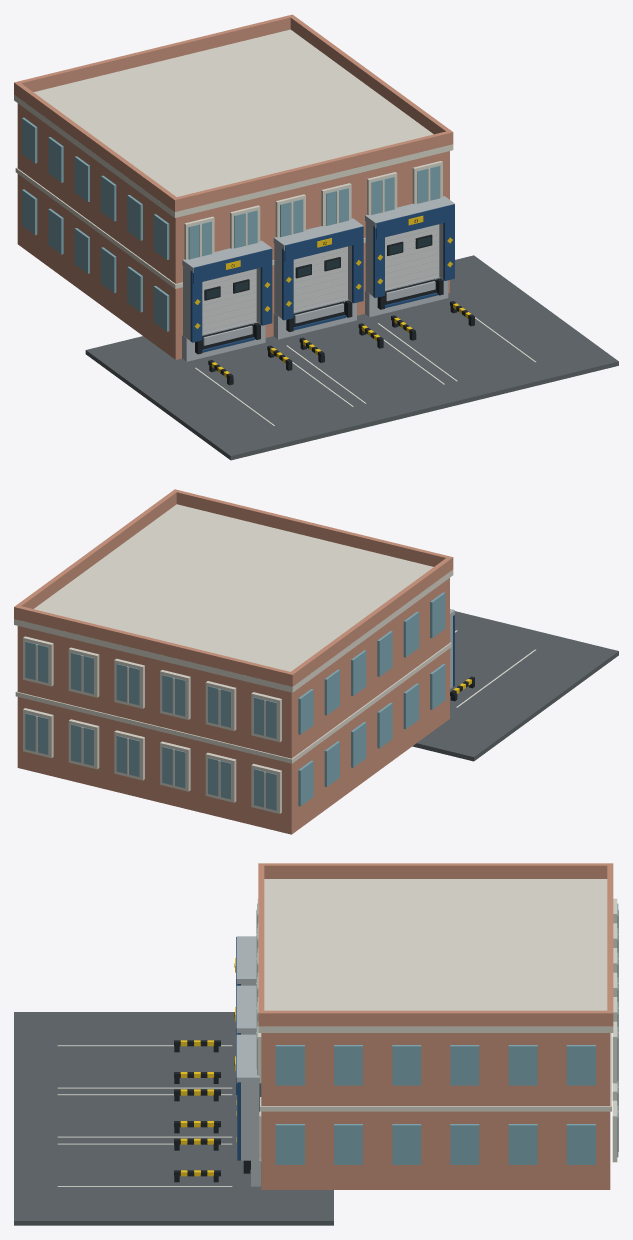
The model's file is warehouse-new.glb.
3 renders of one model, top to bottom at view 1: azimuth 30°, elevation 25°; view 2: azimuth 150°, elevation 25°; view 3: azimuth 270°, elevation 25°, orthographic. The views are drawn at different scales.
Parts seen in each view (by area): view 1: Forecourt, loading-warehouse-concrete, loading-warehouse-brick, loading-warehouse-glass, Sectional door, Sectional door.002, Sectional door.001, Blue shelter top flap.001, Blue shelter top flap.002, Blue shelter top flap, Dock foundation.002, Dock foundation.001 (+11 smaller); view 2: loading-warehouse-brick, loading-warehouse-concrete, loading-warehouse-glass, Forecourt; view 3: loading-warehouse-brick, loading-warehouse-concrete, Forecourt, loading-warehouse-glass, Shelter metal side.005, Shelter canopy.002, Shelter canopy, Shelter canopy.001.
Boxes of the visible parts, bbox=[...] form: Forecourt: bbox=[85, 255, 618, 460]; loading-warehouse-concrete: bbox=[14, 29, 453, 304]; loading-warehouse-brick: bbox=[14, 14, 453, 359]; loading-warehouse-glass: bbox=[22, 117, 440, 331]; Sectional door: bbox=[202, 269, 256, 333]; Sectional door.002: bbox=[385, 224, 439, 289]; Sectional door.001: bbox=[293, 246, 347, 311]; Blue shelter top flap.001: bbox=[193, 248, 272, 283]; Blue shelter top flap.002: bbox=[284, 226, 363, 261]; Blue shelter top flap: bbox=[376, 204, 454, 239]; Dock foundation.002: bbox=[365, 276, 448, 317]; Dock foundation.001: bbox=[273, 298, 356, 339]; loading-warehouse-brick: bbox=[14, 489, 453, 834]; loading-warehouse-concrete: bbox=[14, 504, 453, 813]; loading-warehouse-glass: bbox=[25, 592, 445, 810]; Forecourt: bbox=[412, 611, 618, 761]; loading-warehouse-brick: bbox=[258, 863, 613, 1189]; loading-warehouse-concrete: bbox=[256, 879, 618, 1162]; Forecourt: bbox=[14, 1012, 333, 1225]; loading-warehouse-glass: bbox=[257, 903, 618, 1164]; Shelter metal side.005: bbox=[241, 1083, 259, 1160]; Shelter canopy.002: bbox=[236, 1034, 259, 1083]; Shelter canopy: bbox=[236, 936, 256, 985]; Shelter canopy.001: bbox=[236, 985, 256, 1034].
Size of the model in its own units: 17 by 7.75 by 20.8.
